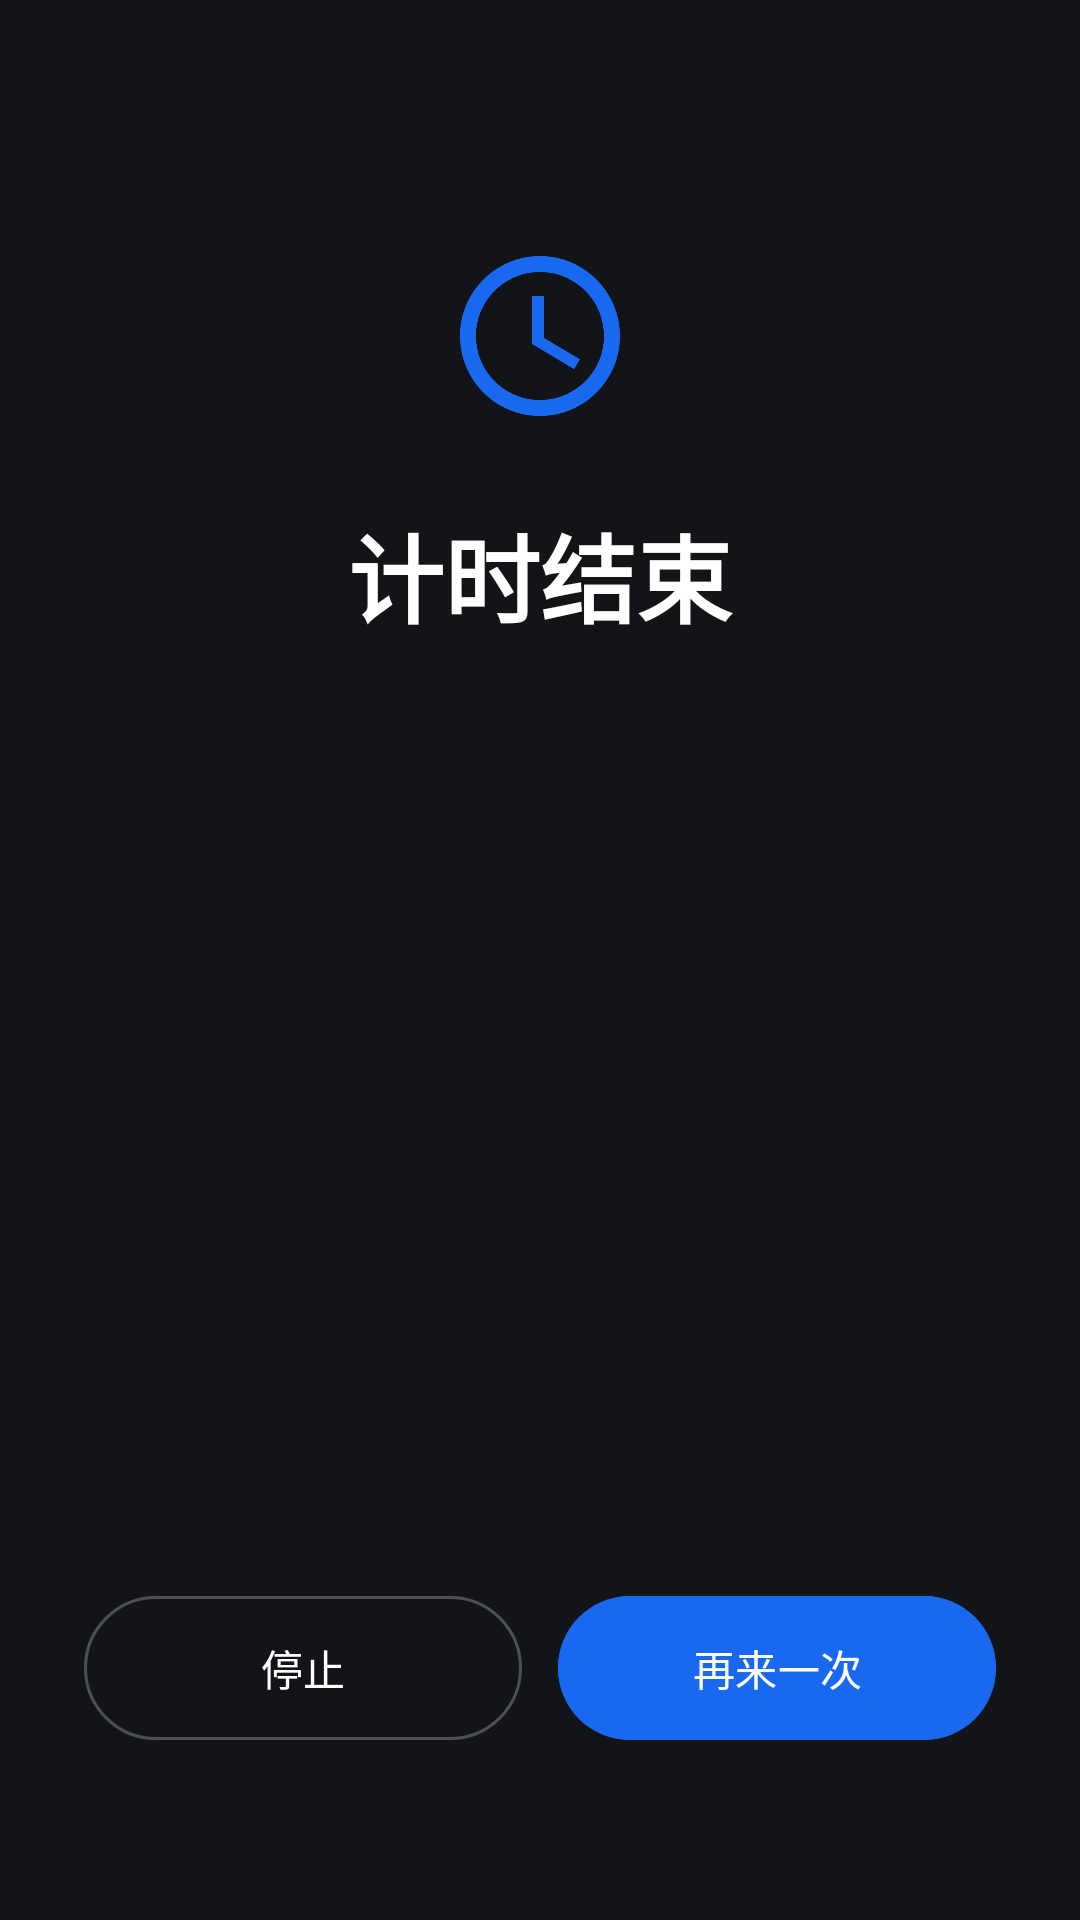

Where icons sit on this 1080x1920 app screen, as [left=x1, top=y1, right=x2, bottom=y2]:
clock: [left=460, top=256, right=620, bottom=416]
